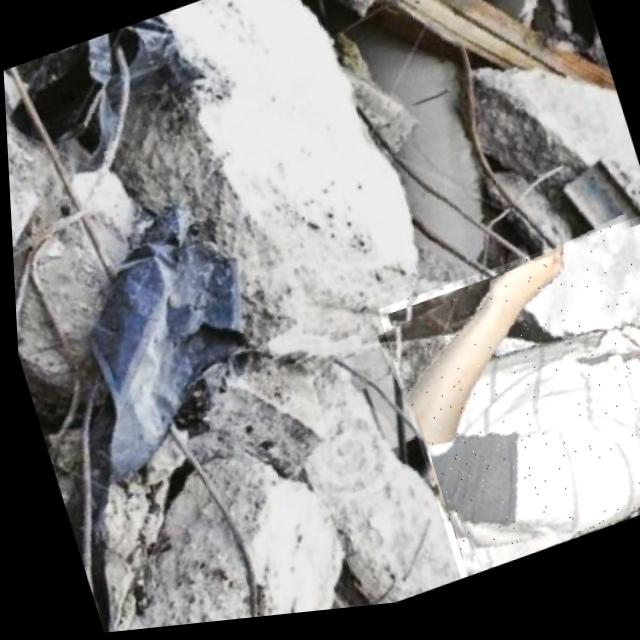Person in Rubble: (370, 225, 640, 594)
